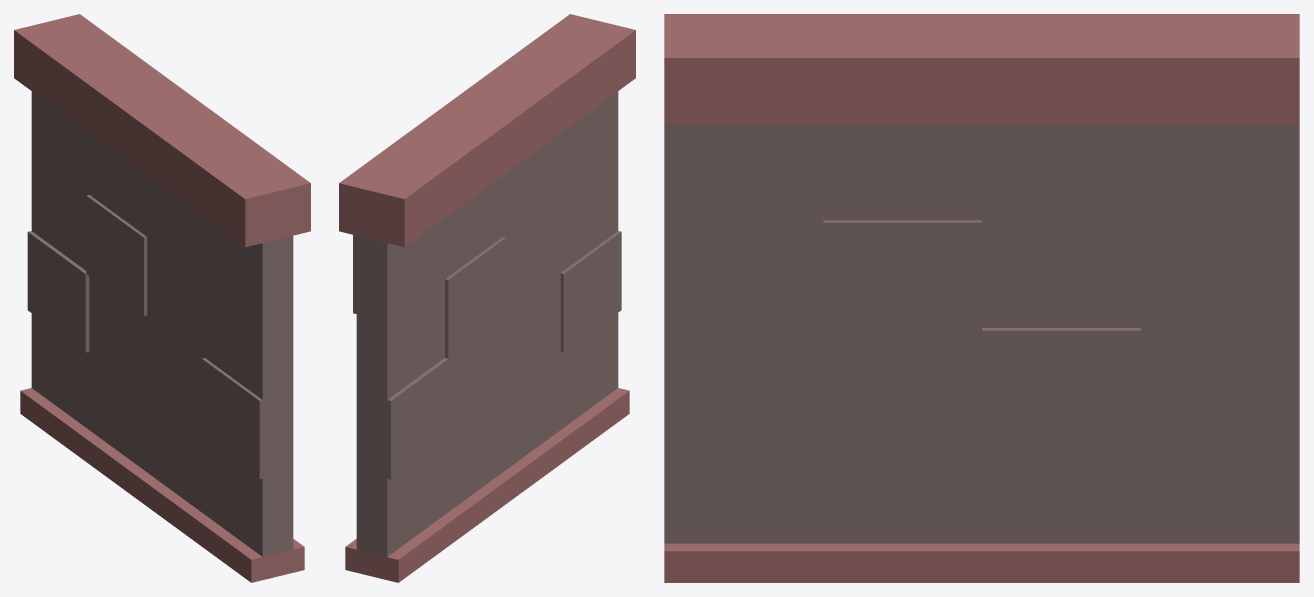
The model's file is FBX_Mur.fbx.
The picture shows the model from 3 angles, left to right: view 1: azimuth 30°, elevation 25°; view 2: azimuth 150°, elevation 25°; view 3: azimuth 270°, elevation 25°; orthographic projection. The views are drawn at different scales.
Parts seen in each view (by area): view 1: pCube3; view 2: pCube3; view 3: pCube3.
Boxes of the visible parts, box(x1,y1,x2,y2) form: pCube3: box(14, 14, 310, 582); pCube3: box(339, 14, 635, 582); pCube3: box(664, 14, 1299, 582).
Size of the model in its own units: 44.66 by 250 by 272.
